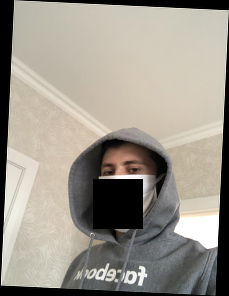with_mask: (97, 154, 156, 234)
